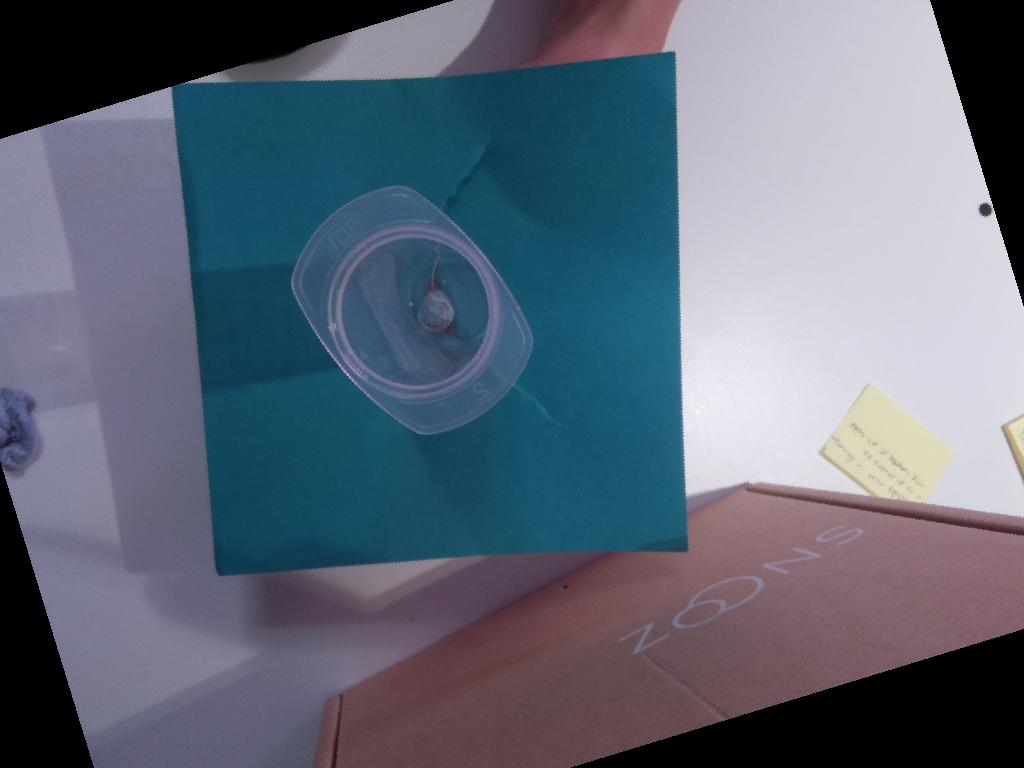clean: (290, 184, 535, 434)
